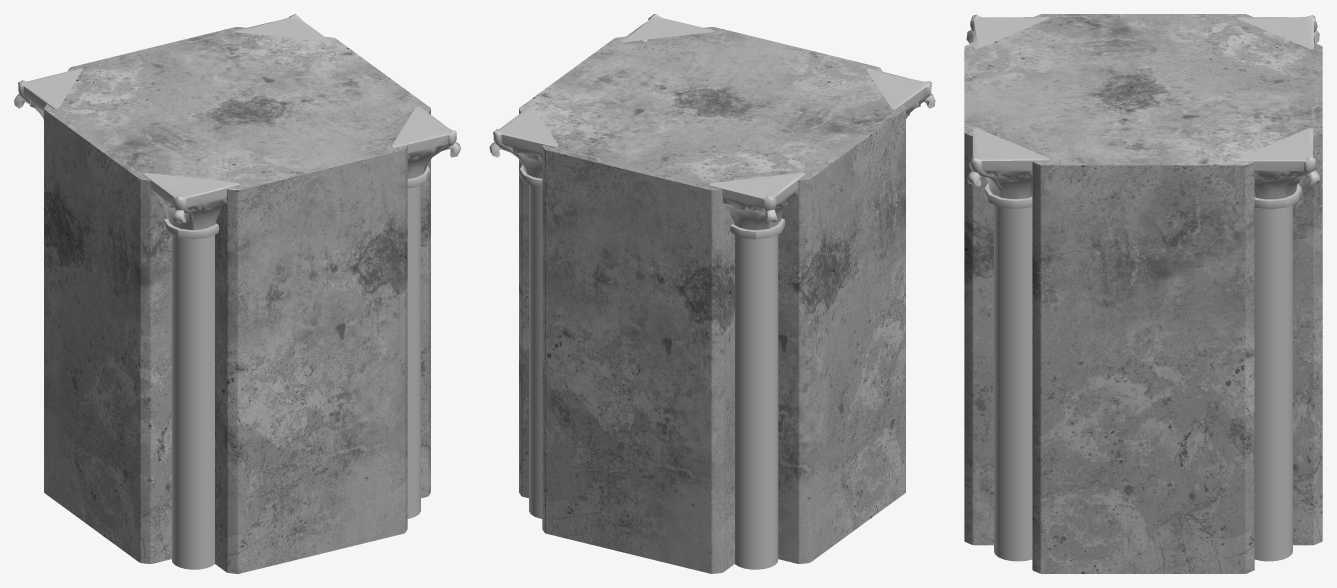
File: SM_Pinbacle_01b.fbx
3 views of the same model, side by side, from view 1: azimuth 30°, elevation 25°; view 2: azimuth 150°, elevation 25°; view 3: azimuth 270°, elevation 25° (orthographic). The views are drawn at different scales.
Parts seen in each view (by area): view 1: SM_Pinbacle_01b_LOD0; view 2: SM_Pinbacle_01b_LOD0; view 3: SM_Pinbacle_01b_LOD0.
Part boxes in pixels (x1,y1,x2,y2): SM_Pinbacle_01b_LOD0: (14, 14, 460, 573); SM_Pinbacle_01b_LOD0: (489, 14, 935, 573); SM_Pinbacle_01b_LOD0: (964, 14, 1322, 573).
Size of the model in its own units: 318 by 318 by 404.
